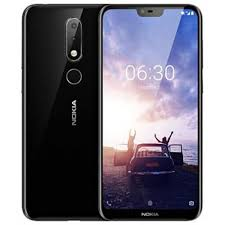nokia: (99, 1, 202, 224), (22, 1, 100, 225)
